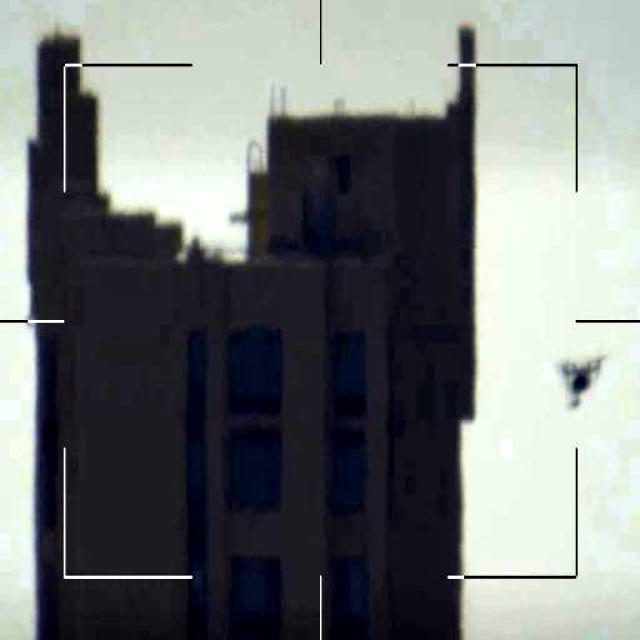bird: (552, 349, 616, 410)
